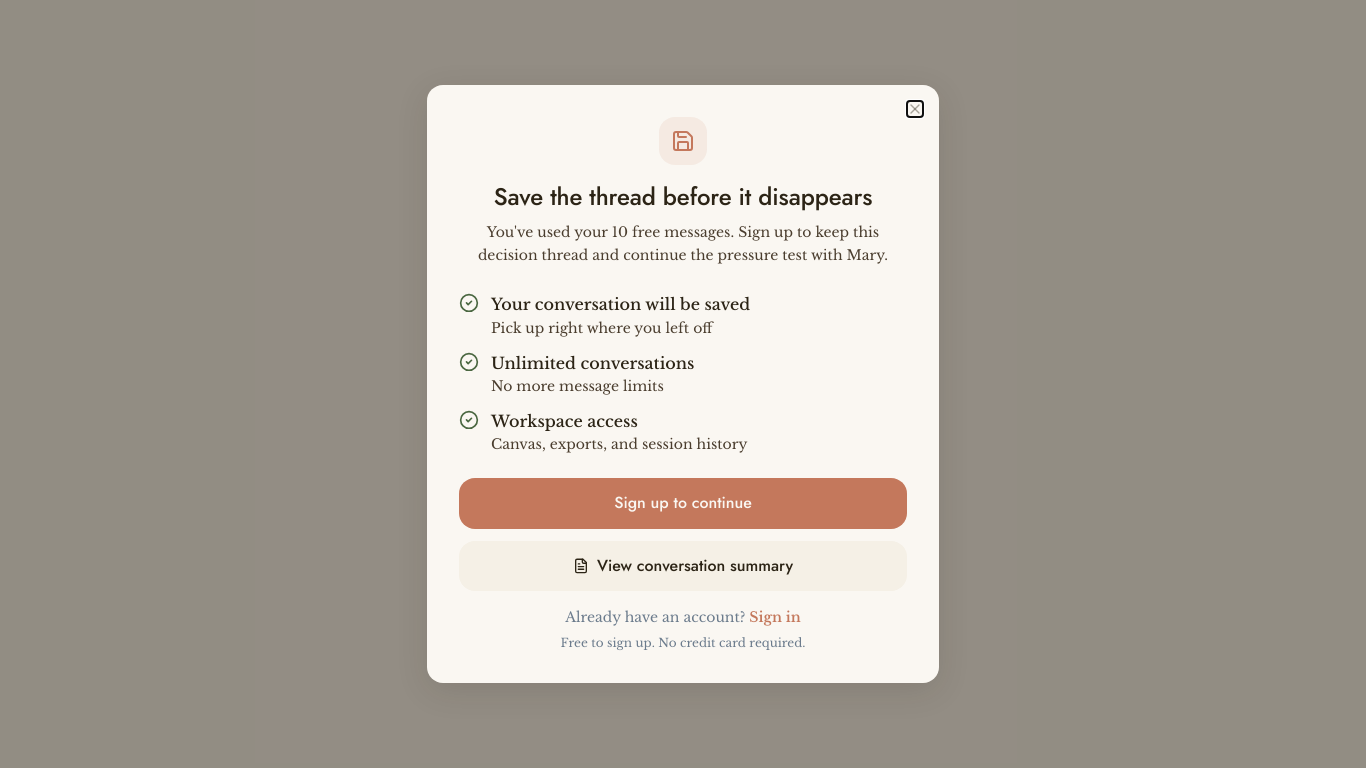
Test: SignupPromptModal › shows the generated conversation summary without closing
Click the button "View conversation summary" at x=683, y=566, box [459,541,907,591]
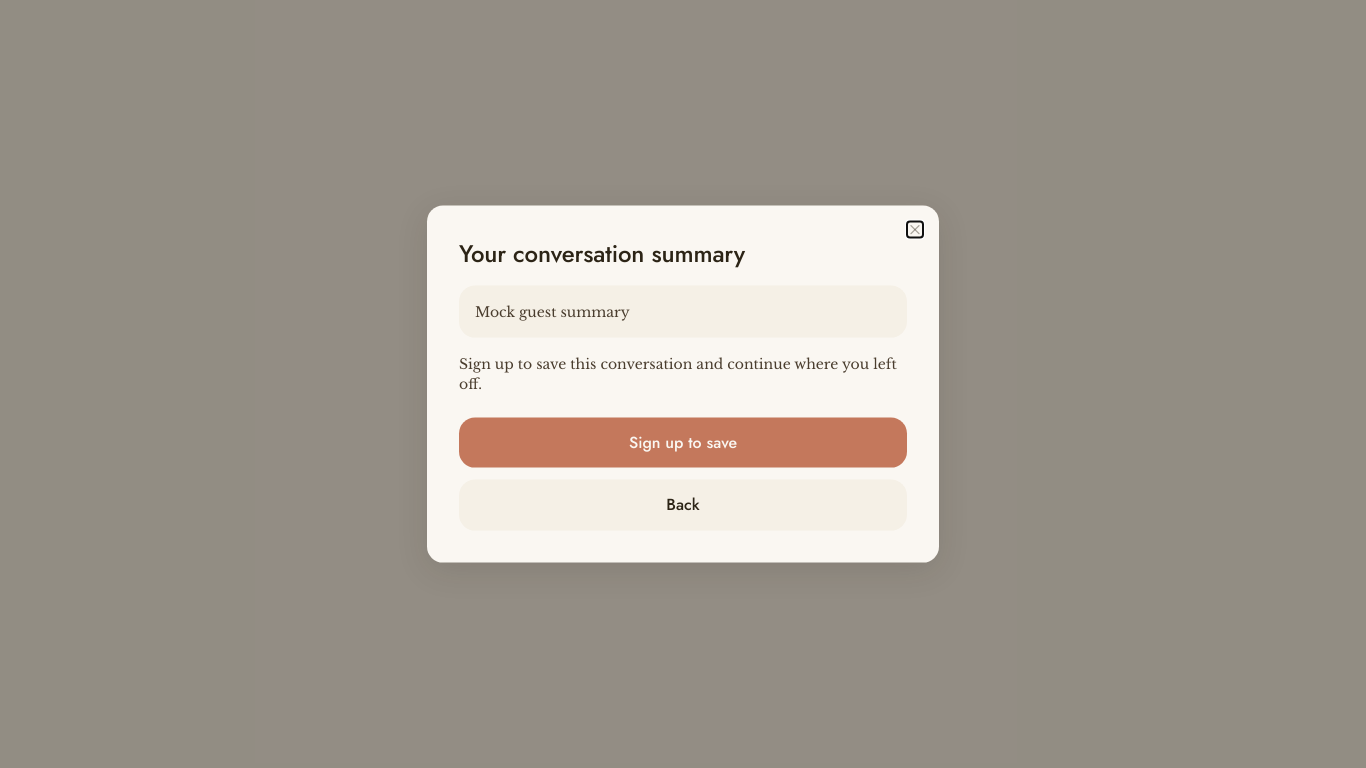
Expected: the dialog "Your conversation summary" is shown, [427,206,939,562]
Expected: the text "Mock guest summary" is shown, [475,303,630,321]
